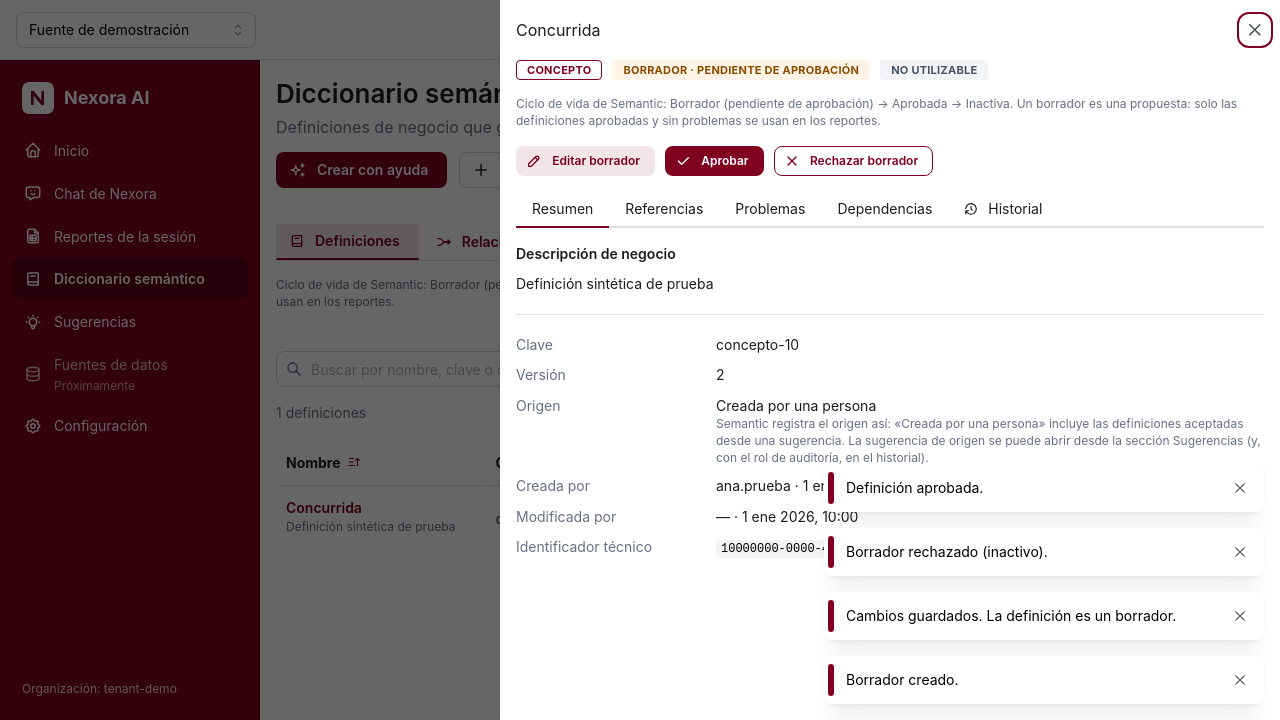
Scenario: semantic dictionary › 412: another person changed it: the console says so and offers to reload (no overwrite)
Click the button "Aprobar" at (714, 161), box 665,146 -> 764,176
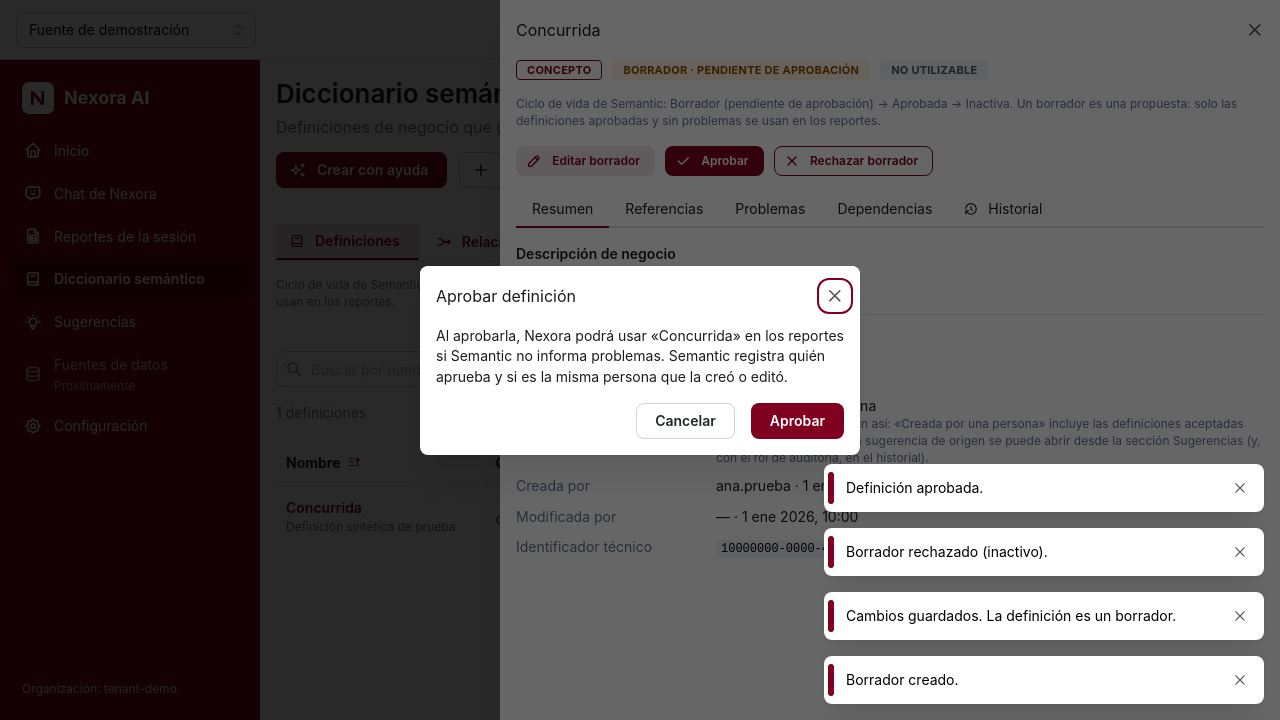
Click the button "Aprobar" at (797, 420), box 751,402 -> 844,438
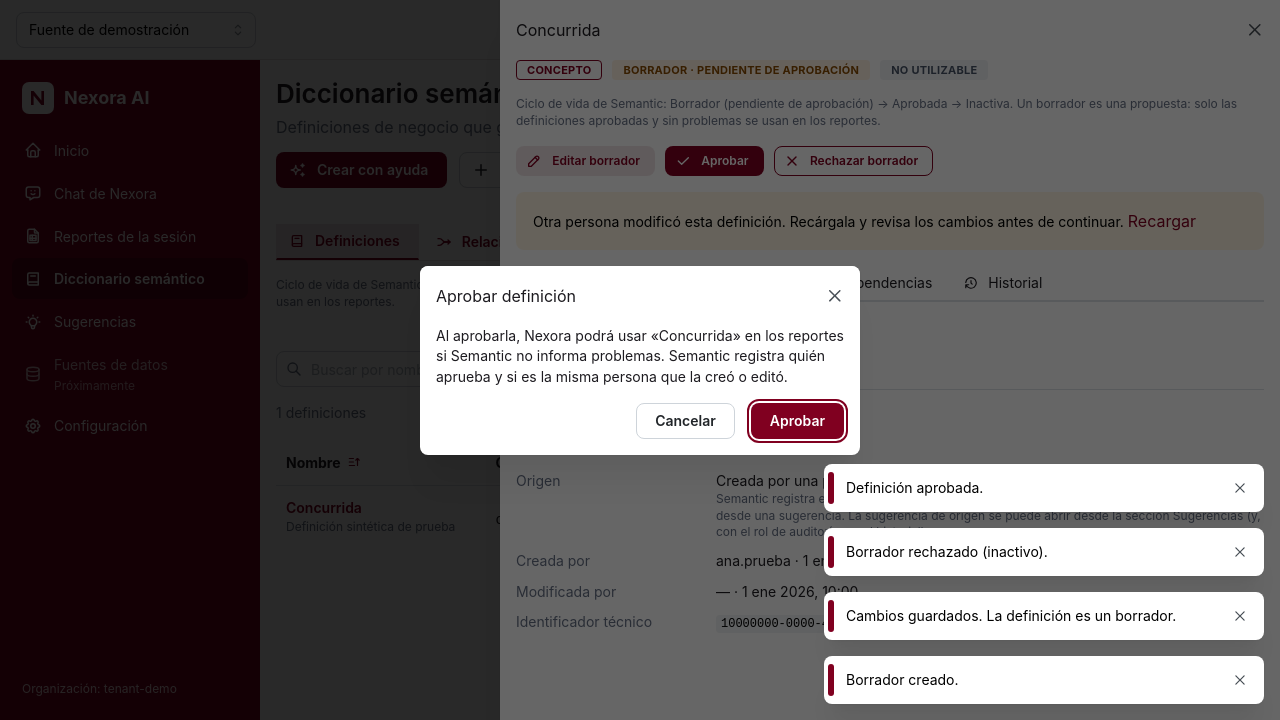
Now the text "Otra persona modificó esta definición" is shown, box 533,213 -> 1124,230
Now the button "Recargar" is shown, box 1128,209 -> 1196,233
